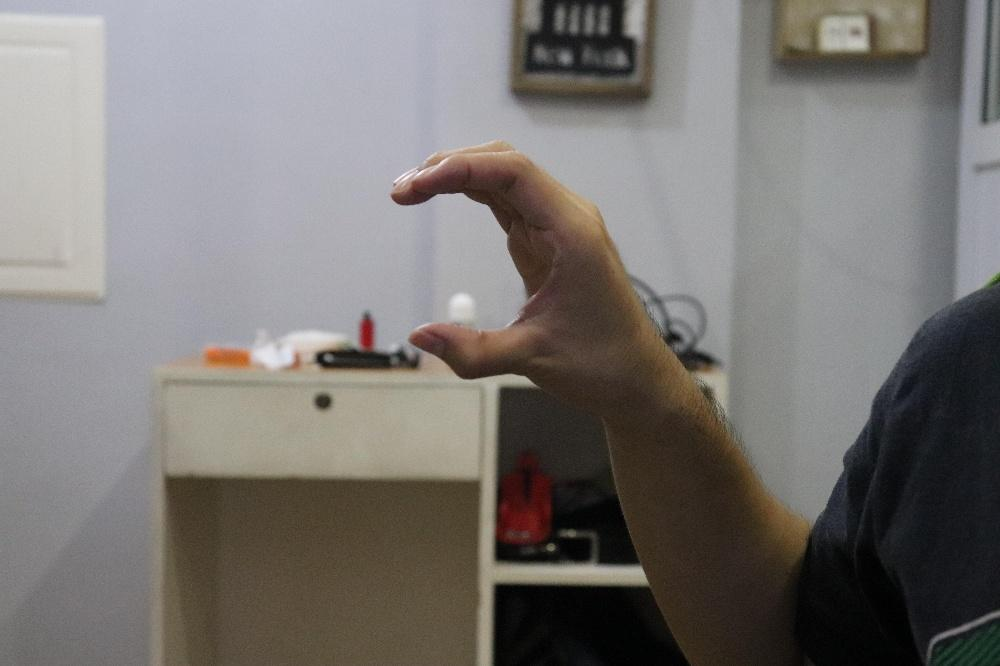c: (389, 137, 648, 409)
